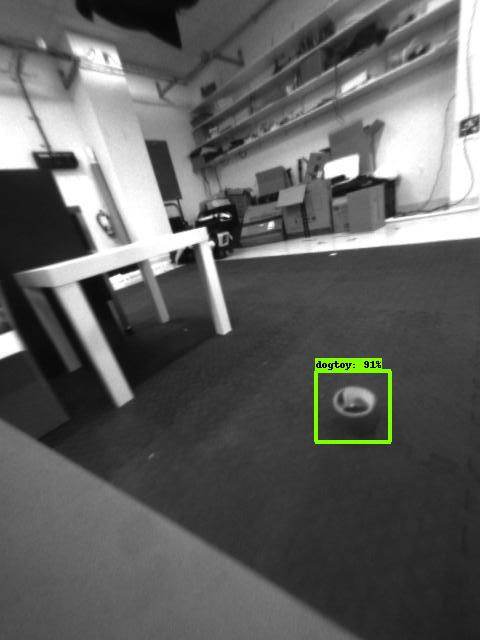dogtoy: (314, 377, 384, 431)
